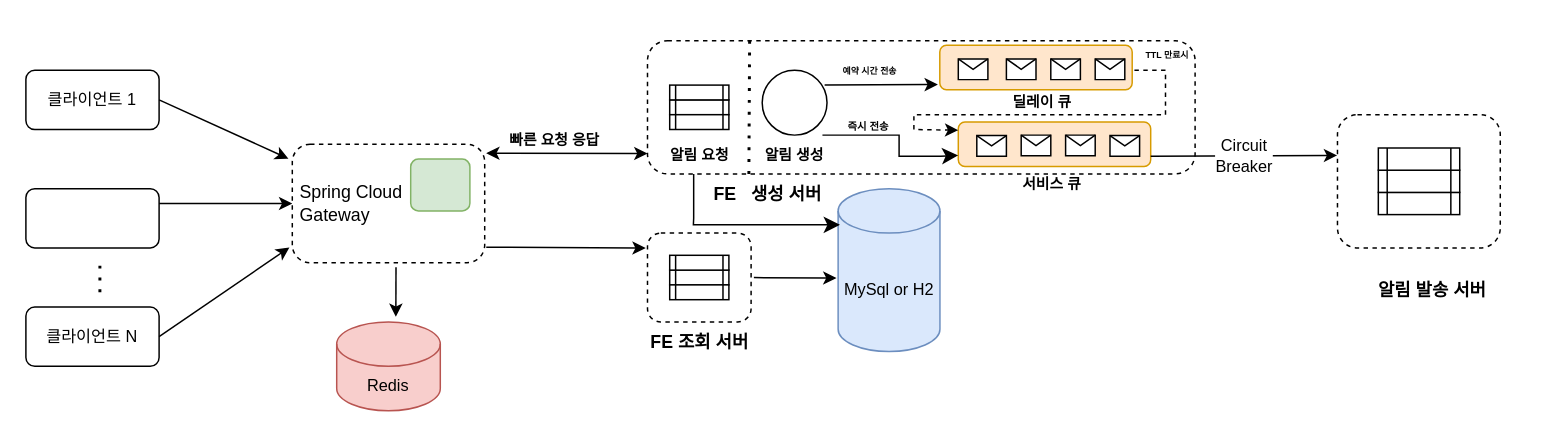
The diagram is 1561 pixels wide and 438 high, and some of its shapes have lost their labels. Here are the shapes that lost their labels. From the top down, the box of each, then its label:
(761, 69, 827, 135): Async Event
(409, 158, 470, 211): rate limiter 전송율 제한
(24, 187, 159, 248): 클라이언트 2
